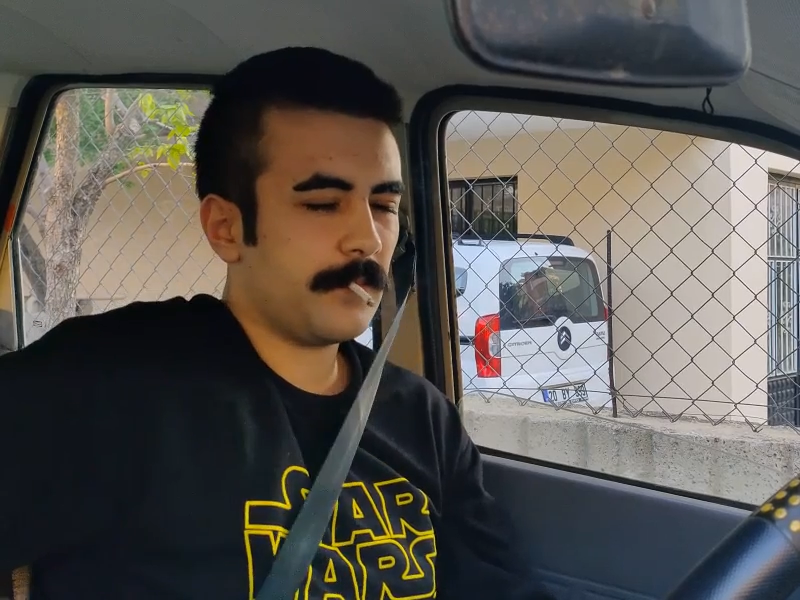sigara: (340, 277, 379, 313)
